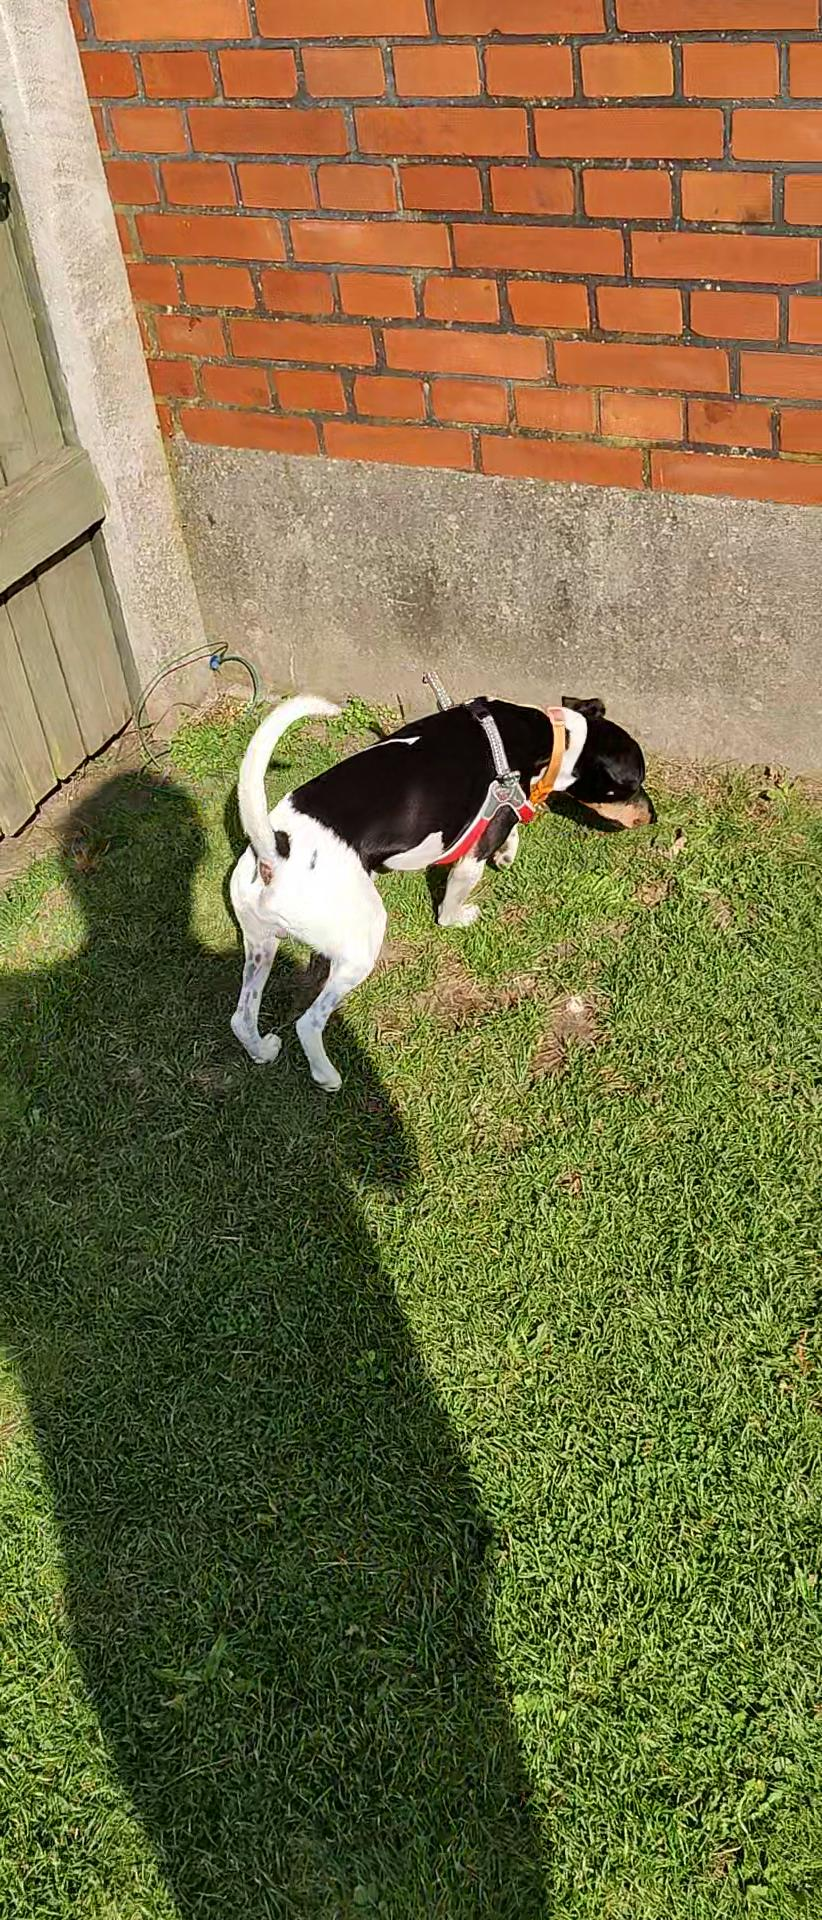Dog: (211, 651, 674, 1096)
